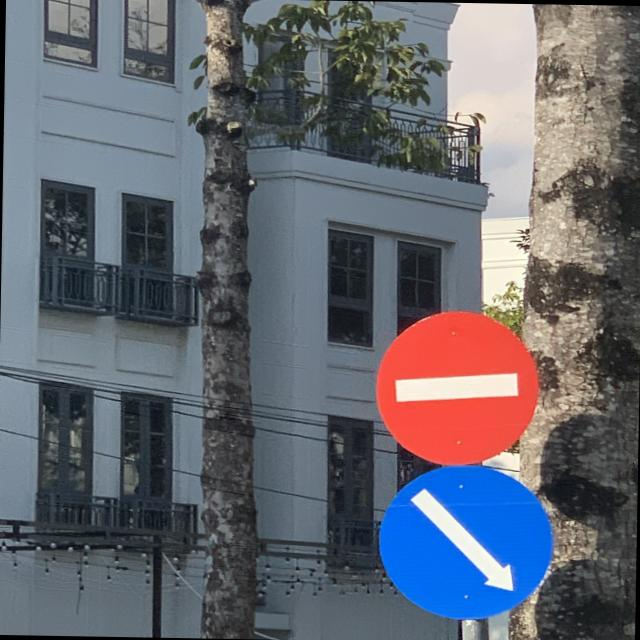Cam_Di_Nguoc_Chieu: (375, 310, 540, 466)
Chi_Huong_Di_Phai: (378, 463, 554, 621)
